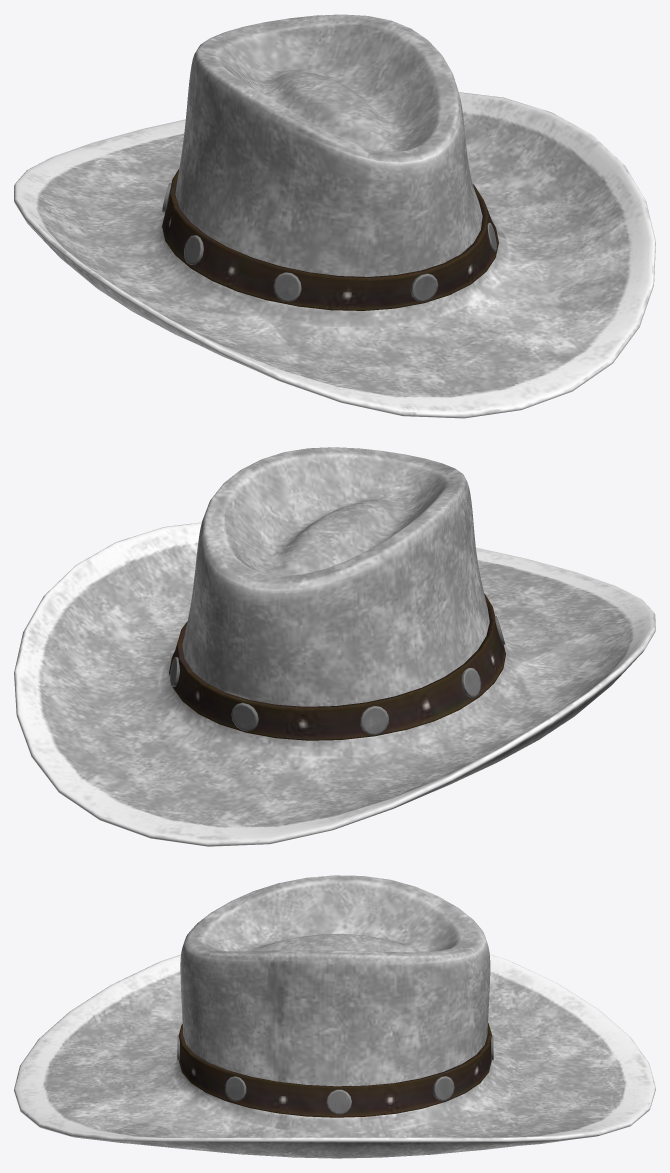
The model's file is cowboy.glb.
3 views of the same model, one above another, from view 1: azimuth 30°, elevation 25°; view 2: azimuth 150°, elevation 25°; view 3: azimuth 270°, elevation 25° (orthographic). The views are drawn at different scales.
Parts seen in each view (by area): view 1: HAT, STRAP, SKULLS; view 2: HAT, STRAP, SKULLS; view 3: HAT, STRAP, SKULLS.
Boxes of the visible parts, left/top/right/bottom form: HAT: left=14, top=14, right=655, bottom=418; STRAP: left=162, top=169, right=498, bottom=310; SKULLS: left=162, top=183, right=497, bottom=302; HAT: left=14, top=447, right=655, bottom=846; STRAP: left=169, top=593, right=505, bottom=740; SKULLS: left=170, top=616, right=504, bottom=735; HAT: left=14, top=875, right=655, bottom=1158; STRAP: left=178, top=1023, right=491, bottom=1117; SKULLS: left=177, top=1035, right=493, bottom=1114.
Size of the model in its own units: 4.56 by 1.77 by 5.79.
2 materials, 2 textured.
